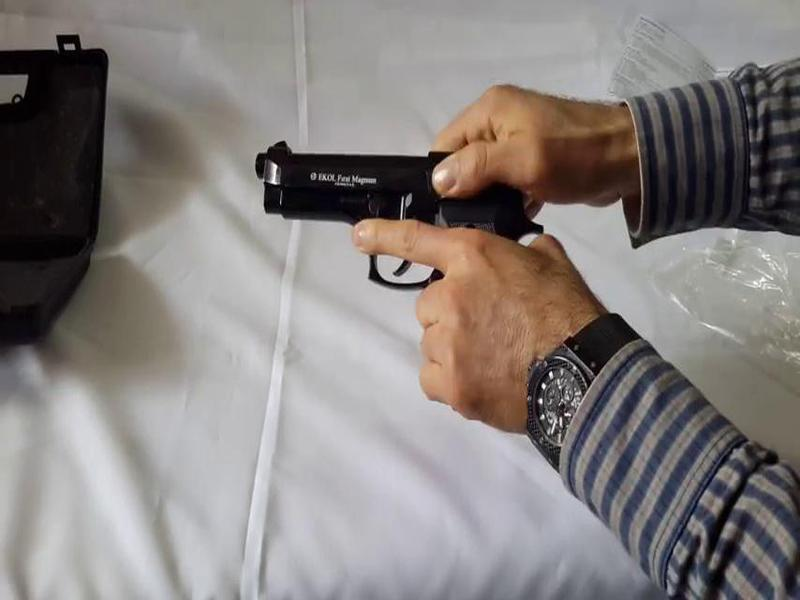Pistola: (233, 124, 534, 327)
